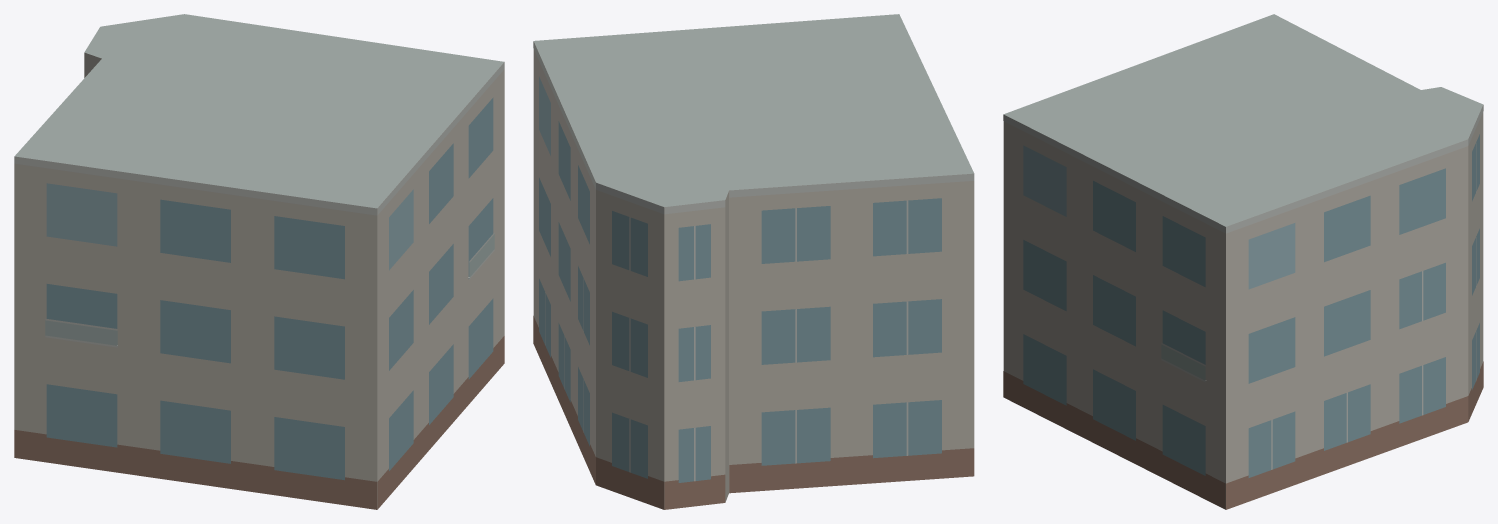
Rendered from survey-upis-32985474.glb.
3 renders of one model, left to right at view 1: azimuth 30°, elevation 25°; view 2: azimuth 150°, elevation 25°; view 3: azimuth 270°, elevation 25°, orthographic. The views are drawn at different scales.
Visible parts, largest first — view 1: survey-upis-32985474.tmp; view 2: survey-upis-32985474.tmp; view 3: survey-upis-32985474.tmp.
Boxes of the visible parts, <box> form: survey-upis-32985474.tmp: <box>14,14,504,509</box>; survey-upis-32985474.tmp: <box>533,14,974,509</box>; survey-upis-32985474.tmp: <box>1003,14,1483,509</box>.
Bounding box in the file's own units: 16.54 × 10.25 × 15.76.
